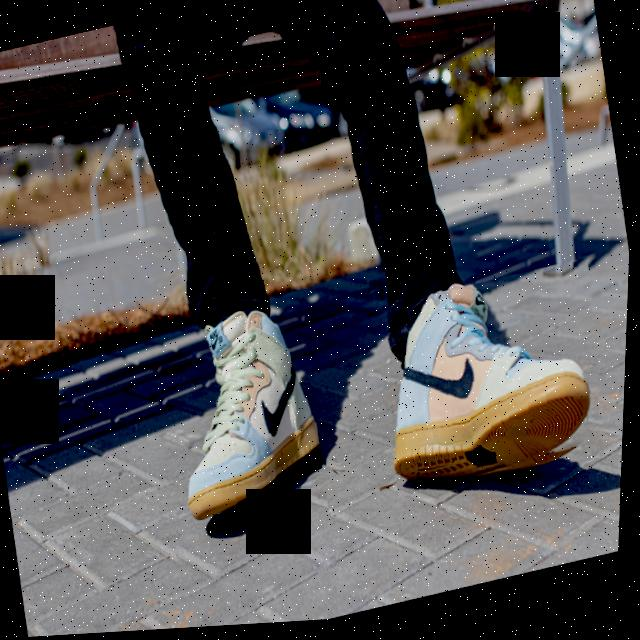shoe: (128, 279, 350, 611), (369, 263, 624, 504)
